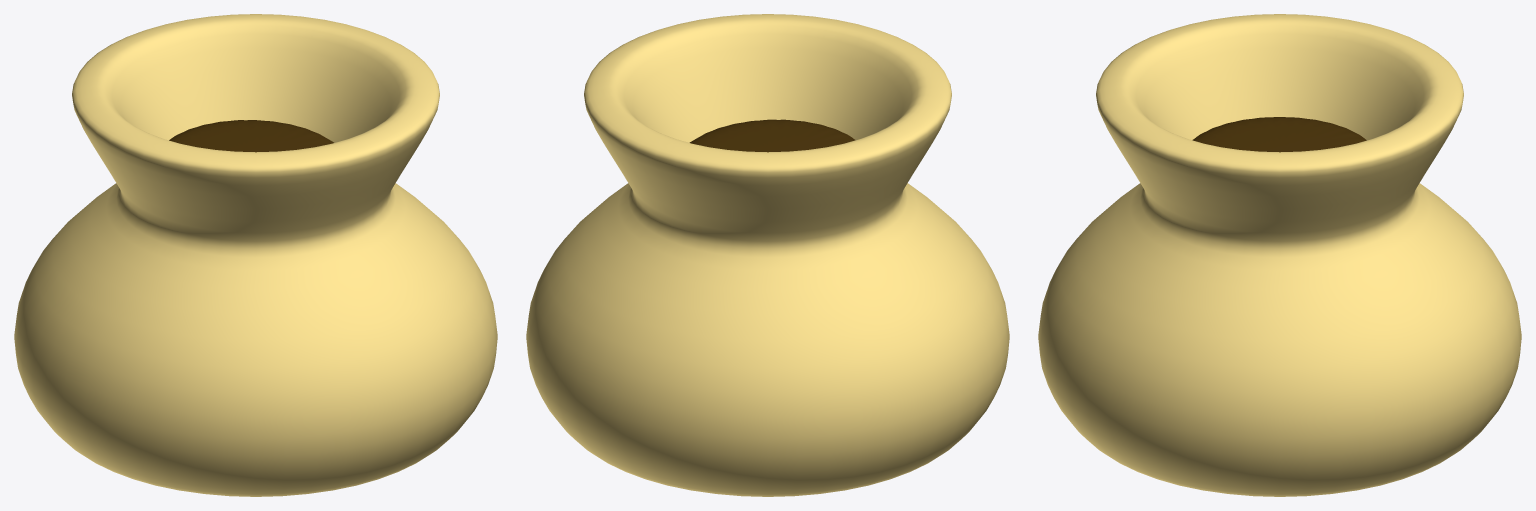
Rendered from mac vera1.fbx.
The picture shows the model from 3 angles, left to right: view 1: azimuth 30°, elevation 25°; view 2: azimuth 150°, elevation 25°; view 3: azimuth 270°, elevation 25°; orthographic projection.
Parts seen in each view (by area): view 1: Circle; view 2: Circle; view 3: Circle.
Boxes of the visible parts, box(x1,y1,x2,y2) form: Circle: box(14, 14, 497, 496); Circle: box(526, 14, 1009, 496); Circle: box(1038, 14, 1521, 496).
Size of the model in its own units: 80.22 by 60.83 by 80.22.
